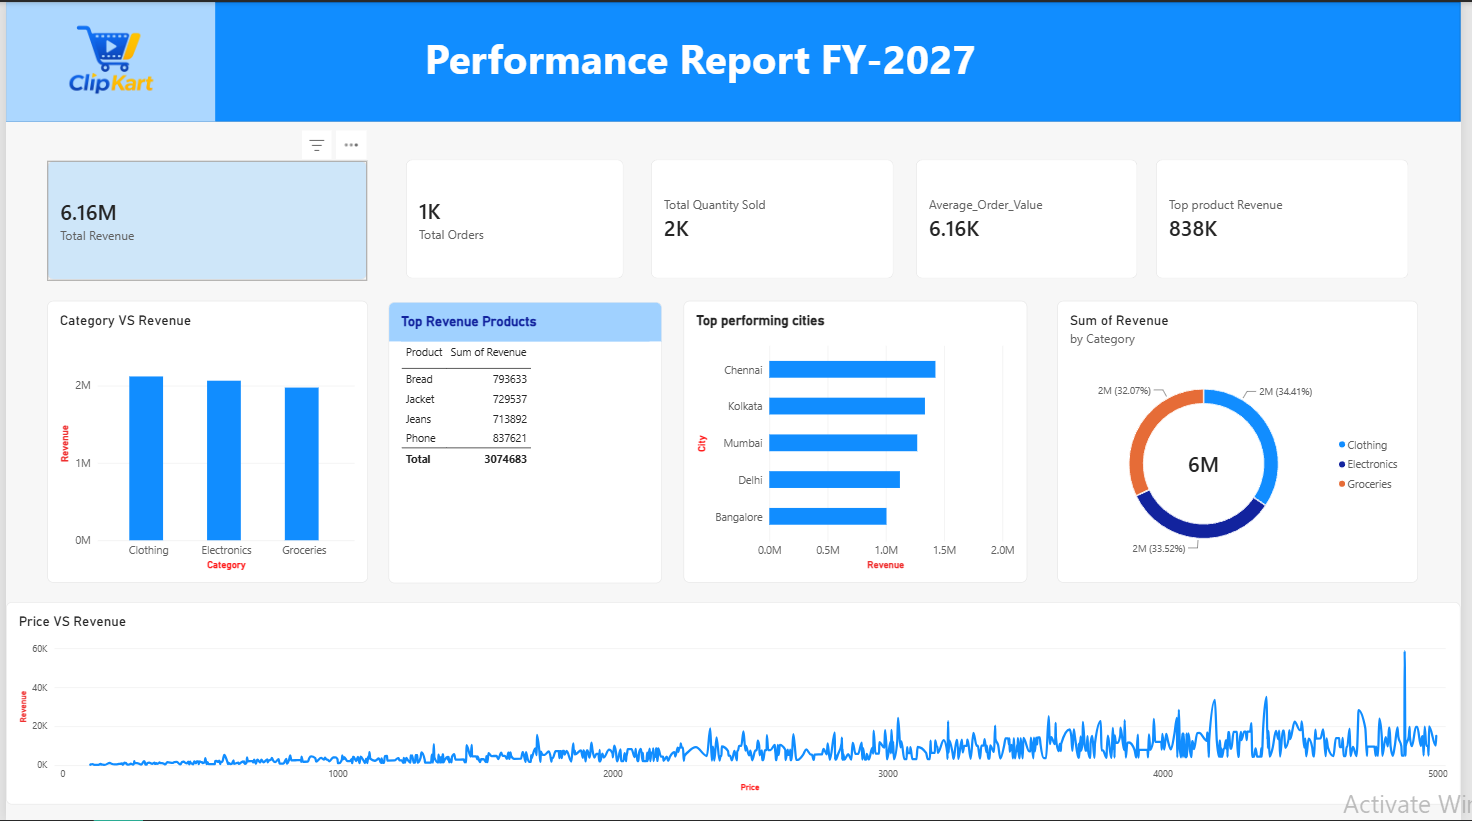

Layout of this report page (visuals, bound fields, positions):
{"tool":"powerbi","page":{"name":"Page 1","canvas":[1920,1080],"ordinal":0},"visuals":[{"type":"shape","box":[0,0,1919.2,158],"z":0},{"type":"image","box":[0,0,276,158],"z":1},{"type":"textbox","box":[484.8,0,862.5,179.8],"z":2},{"type":"cardVisual","fields":{"Data":["Sum(clipkart_ecommerce_data.Revenue)"]},"box":[54.1,209.9,422,158],"z":3},{"type":"lineChart","title":"Price VS Revenue","fields":{"Category":["clipkart_ecommerce_data.Price"],"Y":["Sum(clipkart_ecommerce_data.Revenue)"]},"box":[0,791.7,1919.2,266.9],"z":4},{"type":"columnChart","title":"Category VS Revenue","fields":{"Category":["clipkart_ecommerce_data.Category"],"Y":["Sum(clipkart_ecommerce_data.Revenue)"]},"box":[54.5,394,423.1,372.2],"z":5},{"type":"tableEx","title":"Top Revenue Products","fields":{"Values":["clipkart_ecommerce_data.Product","Sum(clipkart_ecommerce_data.Revenue)"]},"box":[504.8,395.8,360.5,371.2],"z":6},{"type":"cardVisual","fields":{"Data":["CountNonNull(clipkart_ecommerce_data.OrderID)"]},"box":[528.1,207.8,287.8,158],"z":7},{"type":"cardVisual","fields":{"Data":["Sum(clipkart_ecommerce_data.Quantity)"]},"box":[850.5,207.8,320.3,158],"z":8},{"type":"clusteredBarChart","title":"Top performing cities","fields":{"Category":["clipkart_ecommerce_data.City"],"Y":["Sum(clipkart_ecommerce_data.Revenue)"]},"box":[893.3,394,453.9,372.2],"z":9},{"type":"cardVisual","fields":{"Data":["clipkart_ecommerce_data.Average_Order_Value"]},"box":[1201.1,207.8,292.2,158],"z":10},{"type":"donutChart","fields":{"Category":["clipkart_ecommerce_data.Category"],"Y":["Sum(clipkart_ecommerce_data.Revenue)"]},"box":[1387.2,394,475.7,372.2],"z":11},{"type":"cardVisual","fields":{"Data":["clipkart_ecommerce_data.Top product Revenue"]},"box":[1517.1,207.8,333.3,158],"z":12}]}

Visuals, with their boxes on the page's 1920x1080 design canvas (x1, y1, x2, y2). These are canvas units, not pixel positions in the 1472x821 screenshot, which may show the page scaled, cropped or inside an application window:
shape: 0/0/1919/158
image: 0/0/276/158
textbox: 485/0/1347/180
cardVisual - Sum(clipkart_ecommerce_data.Revenue): 54/210/476/368
"Price VS Revenue" lineChart: 0/792/1919/1059
"Category VS Revenue" columnChart: 54/394/478/766
"Top Revenue Products" tableEx: 505/396/865/767
cardVisual - CountNonNull(clipkart_ecommerce_data.OrderID): 528/208/816/366
cardVisual - Sum(clipkart_ecommerce_data.Quantity): 850/208/1171/366
"Top performing cities" clusteredBarChart: 893/394/1347/766
cardVisual - clipkart_ecommerce_data.Average_Order_Value: 1201/208/1493/366
donutChart - clipkart_ecommerce_data.Category x Sum(clipkart_ecommerce_data.Revenue): 1387/394/1863/766
cardVisual - clipkart_ecommerce_data.Top product Revenue: 1517/208/1850/366
